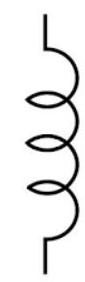inductor: (25, 31, 80, 243)
